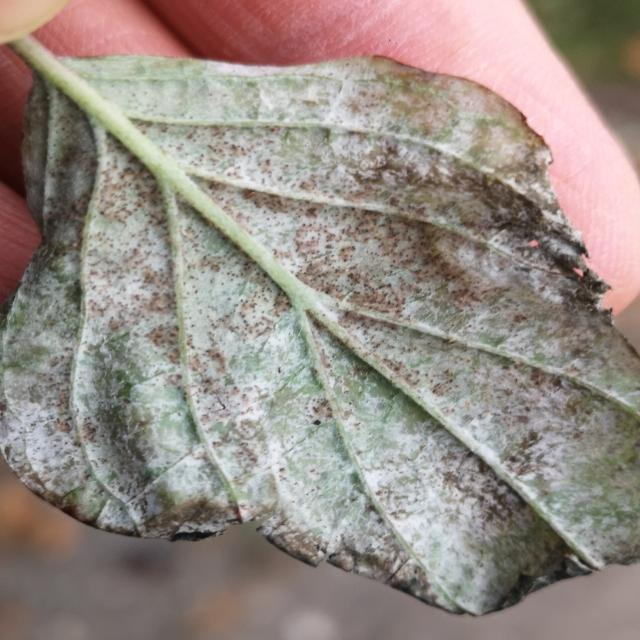powdery_mildew: (0, 56, 640, 615)
